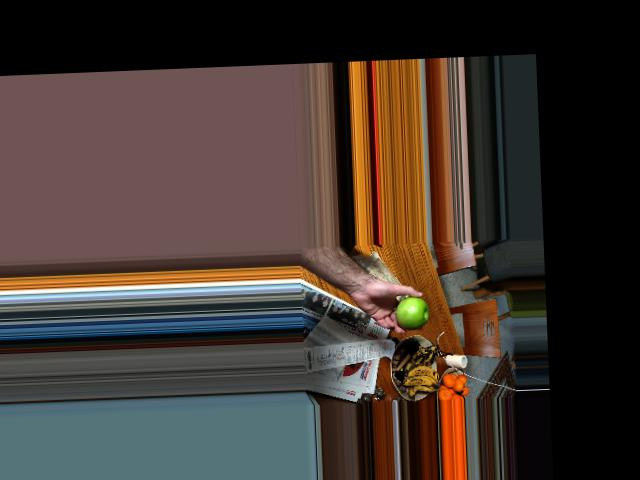apple: (394, 293, 429, 325)
